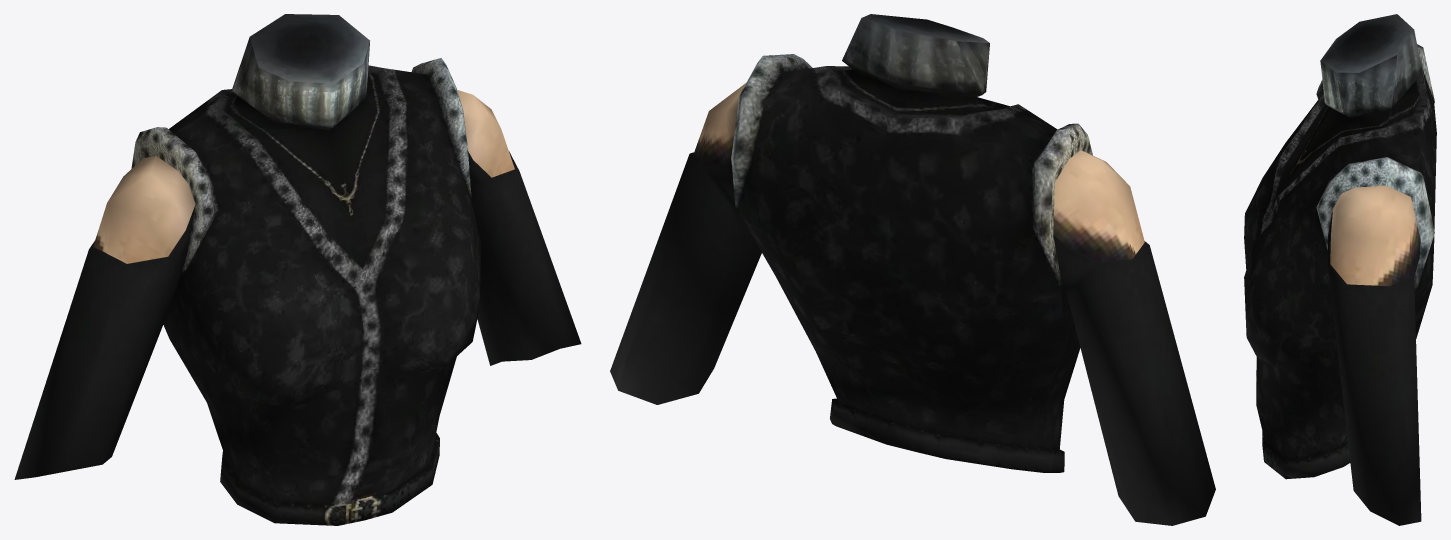
The model's file is STATIC_GS_KM_DRESS_05.glb.
3 renders of one model, left to right at view 1: azimuth 30°, elevation 25°; view 2: azimuth 150°, elevation 25°; view 3: azimuth 270°, elevation 25°, orthographic. The views are drawn at different scales.
Parts seen in each view (by area): view 1: Mesh; view 2: Mesh; view 3: Mesh.
Part boxes in pixels (<box>): Mesh: <box>14,14,581,525</box>; Mesh: <box>610,14,1215,525</box>; Mesh: <box>1244,14,1436,525</box>.
Size of the model in its own units: 0.6107 by 0.4697 by 0.1946.
Materials: 2 (2 with a texture image).
